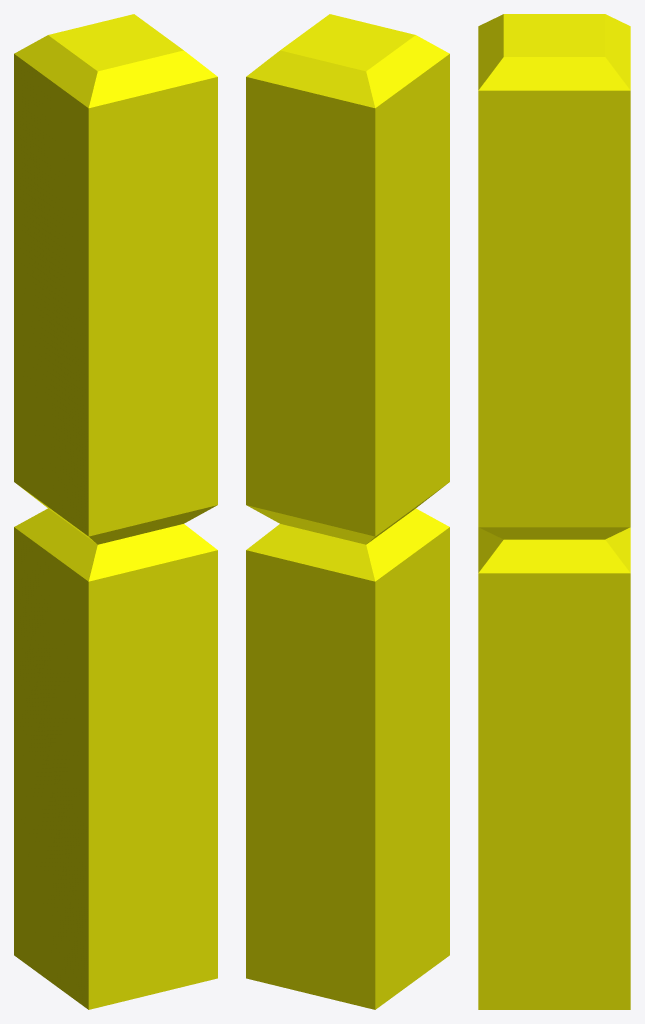
The model's file is kaykit-restaurant-pillar-a.glb.
3 renders of one model, left to right at view 1: azimuth 30°, elevation 25°; view 2: azimuth 150°, elevation 25°; view 3: azimuth 270°, elevation 25°, orthographic.
Visible parts, largest first — view 1: pillar_A; view 2: pillar_A; view 3: pillar_A.
Part boxes in pixels (x1,y1,x2,y2): pillar_A: [14, 14, 217, 1009]; pillar_A: [246, 14, 449, 1009]; pillar_A: [478, 14, 630, 1009].
Bounding box in the file's own units: 0.6001 × 4.1 × 0.6001.
